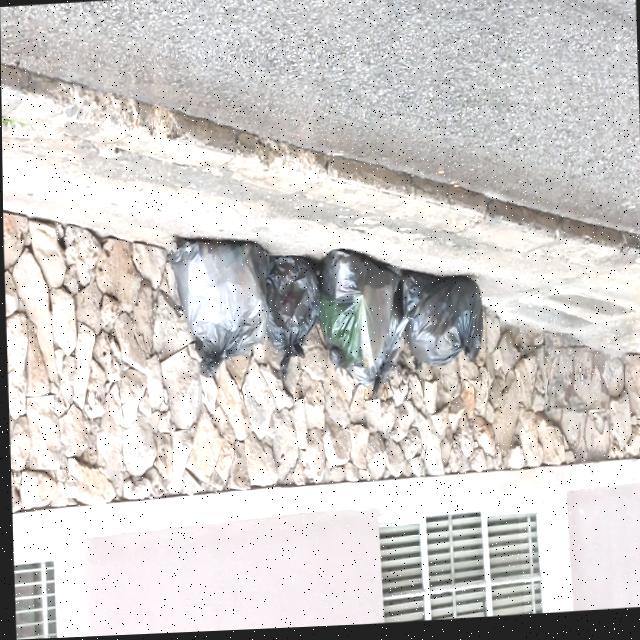Mixed Waste -Black Bag-: (165, 228, 268, 386), (314, 241, 400, 375), (401, 260, 485, 378), (345, 265, 405, 403), (262, 248, 320, 383)
